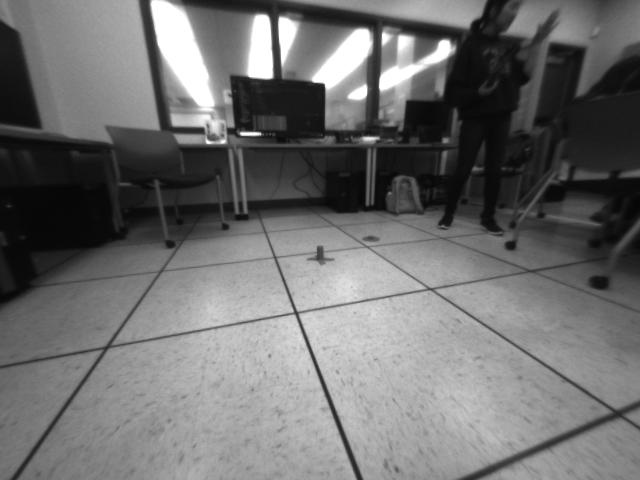X: (305, 244, 336, 266)
